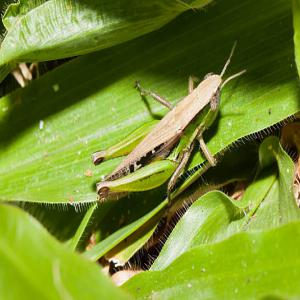locust: (89, 46, 245, 211)
